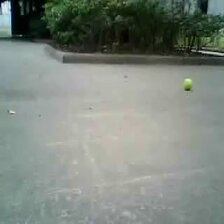tennis: (183, 78, 192, 88)
